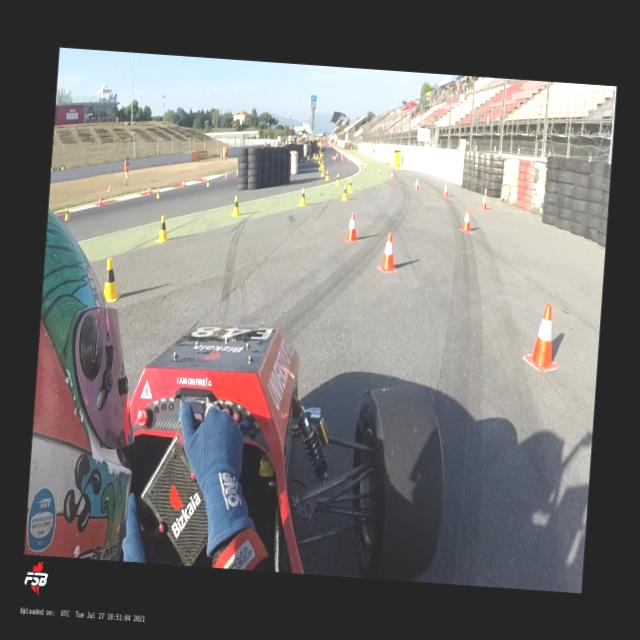orange_cone: (524, 302, 562, 372), (377, 232, 400, 272), (344, 211, 361, 242), (459, 208, 473, 232), (479, 194, 486, 210), (441, 183, 449, 197), (480, 187, 488, 199), (412, 178, 420, 190), (98, 196, 103, 207), (147, 186, 152, 196), (376, 167, 381, 175), (389, 172, 394, 180), (362, 163, 367, 170), (108, 184, 112, 192), (235, 168, 239, 176), (182, 179, 186, 187), (224, 172, 228, 180)
yellow_cone: (102, 258, 120, 302), (156, 214, 171, 243), (231, 194, 242, 217), (298, 187, 308, 206), (340, 184, 350, 201), (346, 178, 354, 192), (64, 207, 71, 220), (334, 173, 340, 185), (155, 186, 160, 198), (325, 170, 330, 180), (206, 178, 211, 187), (320, 168, 326, 175)
